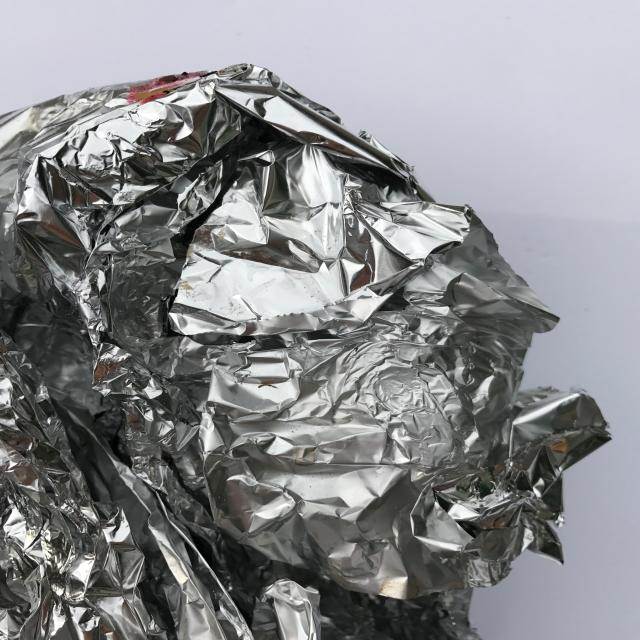metal: (0, 62, 612, 640)
